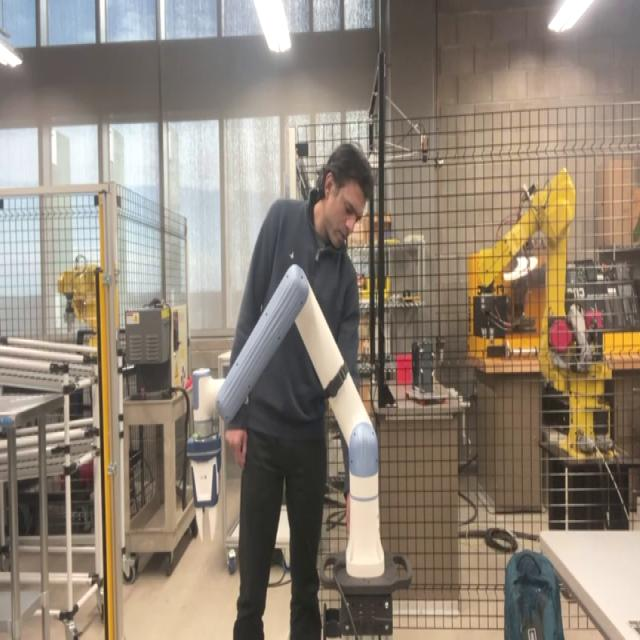robot: (174, 259, 395, 587)
